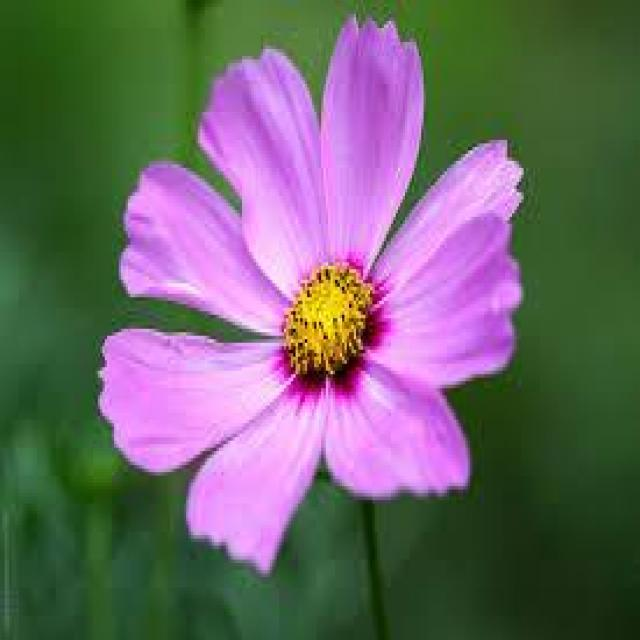organic waste: (98, 11, 538, 584)
